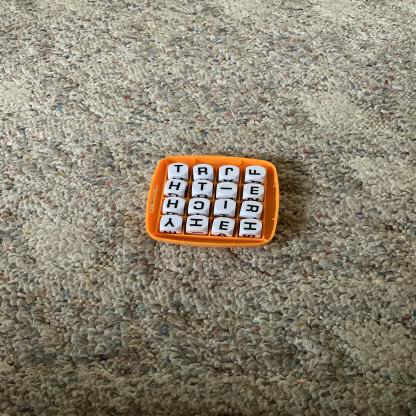c: (191, 199, 210, 213)
e: (215, 219, 235, 234), (245, 185, 265, 198)
f: (247, 167, 267, 180)
h: (188, 216, 209, 231), (242, 220, 262, 235), (165, 198, 185, 212), (167, 180, 186, 194)
i: (218, 183, 238, 197), (216, 200, 236, 214)
j: (220, 166, 240, 179)
r: (243, 202, 263, 216), (195, 165, 214, 178)
t: (193, 181, 214, 195), (170, 164, 189, 177)
y: (162, 216, 182, 231)
